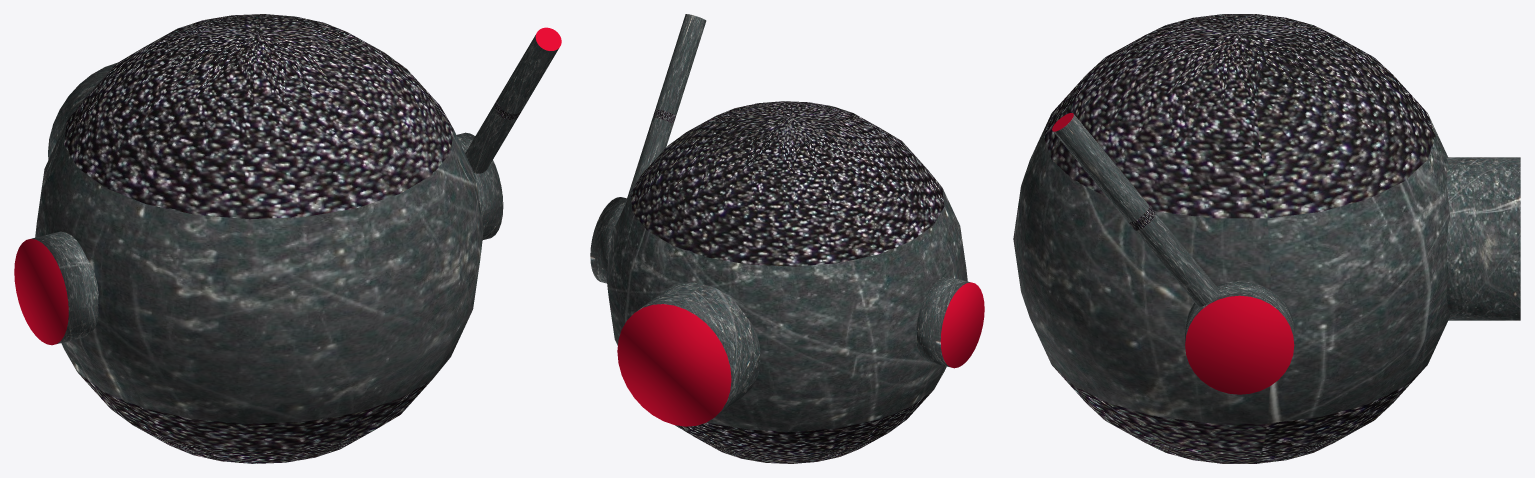
File: playerhead.gltf
3 views of the same model, side by side, from view 1: azimuth 30°, elevation 25°; view 2: azimuth 150°, elevation 25°; view 3: azimuth 270°, elevation 25° (orthographic). The views are drawn at different scales.
Parts seen in each view (by area): view 1: head, ear, antenna, eye; view 2: head, eye, ear, antenna; view 3: head, eye, ear, antenna.
Boxes of the visible parts, bbox=[...] form: head: bbox=[35, 14, 483, 463]; ear: bbox=[14, 132, 503, 345]; antenna: bbox=[465, 27, 561, 173]; eye: bbox=[48, 62, 117, 159]; head: bbox=[606, 101, 967, 463]; eye: bbox=[617, 282, 760, 426]; ear: bbox=[590, 197, 984, 368]; antenna: bbox=[627, 14, 706, 198]; head: bbox=[1013, 14, 1449, 463]; eye: bbox=[1446, 157, 1520, 320]; ear: bbox=[1185, 281, 1294, 394]; antenna: bbox=[1052, 113, 1219, 307].
Size of the model in its own units: 1.84 by 1.73 by 1.86.
Materials: 3 (2 with a texture image).
